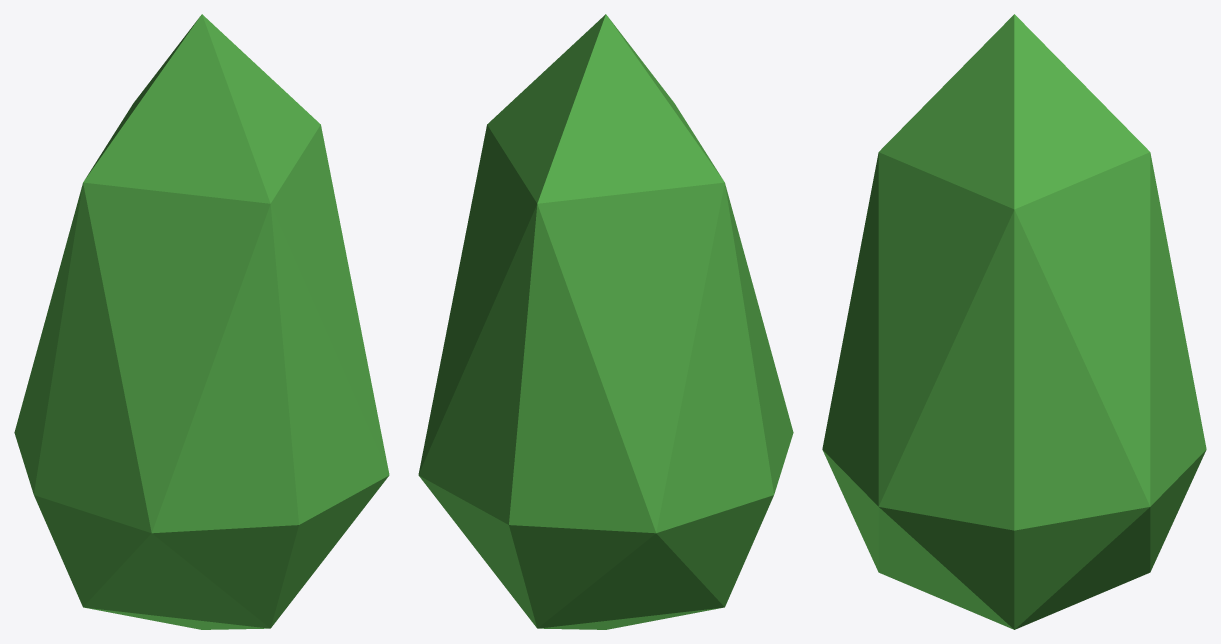
The model's file is Plants-Bush-Pointy-Small.FBX.
3 views of the same model, side by side, from view 1: azimuth 30°, elevation 25°; view 2: azimuth 150°, elevation 25°; view 3: azimuth 270°, elevation 25° (orthographic).
Parts seen in each view (by area): view 1: Plants-Bush-Pointy-Small; view 2: Plants-Bush-Pointy-Small; view 3: Plants-Bush-Pointy-Small.
Boxes of the visible parts, x1,y1,x2,y2 form: Plants-Bush-Pointy-Small: (14, 14, 389, 629); Plants-Bush-Pointy-Small: (418, 14, 793, 629); Plants-Bush-Pointy-Small: (822, 14, 1206, 629).
Size of the model in its own units: 10 by 10 by 17.5.
